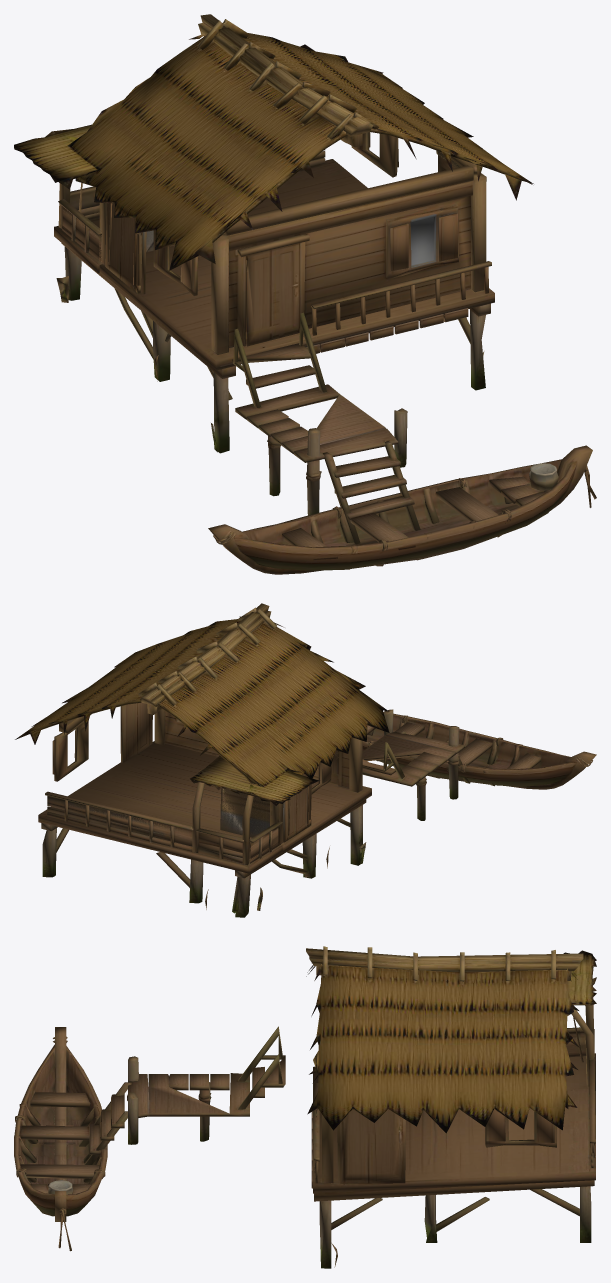
Rendered from 019e3f0b-b739-789e-9c08-9bdfb173578a.glb.
3 renders of one model, top to bottom at view 1: azimuth 30°, elevation 25°; view 2: azimuth 150°, elevation 25°; view 3: azimuth 270°, elevation 25°, orthographic. The views are drawn at different scales.
Visible parts, largest first — view 1: tripo_node_7a9aaea0-4344-480e-9cb7-edb7086cdce5; view 2: tripo_node_7a9aaea0-4344-480e-9cb7-edb7086cdce5; view 3: tripo_node_7a9aaea0-4344-480e-9cb7-edb7086cdce5.
Boxes of the visible parts, x1,y1,x2,y2 form: tripo_node_7a9aaea0-4344-480e-9cb7-edb7086cdce5: [14, 14, 596, 574]; tripo_node_7a9aaea0-4344-480e-9cb7-edb7086cdce5: [15, 603, 596, 917]; tripo_node_7a9aaea0-4344-480e-9cb7-edb7086cdce5: [14, 946, 596, 1268].
Bounding box in the file's own units: 0.834 × 0.502 × 0.998.
Materials: 1 (1 with a texture image).
